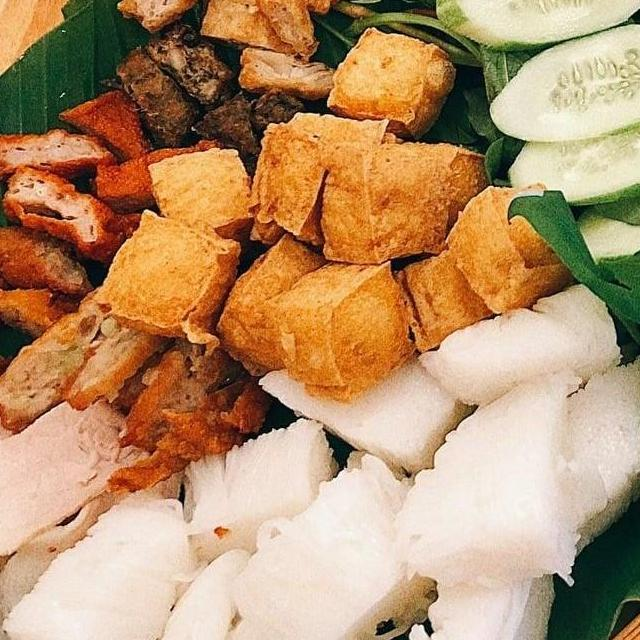bun: (0, 414, 445, 640), (389, 335, 640, 640), (252, 350, 489, 498), (408, 273, 624, 418)
bun dau: (0, 0, 640, 640)
cha com: (0, 84, 223, 301), (102, 329, 280, 504), (0, 219, 101, 469), (0, 295, 168, 441), (108, 0, 360, 60)
dau hu: (232, 97, 500, 282), (210, 222, 420, 409), (384, 179, 588, 362), (80, 204, 258, 356), (319, 20, 466, 146), (134, 142, 268, 242)
doi sun: (108, 13, 312, 155)
thit heo: (0, 387, 156, 597)
